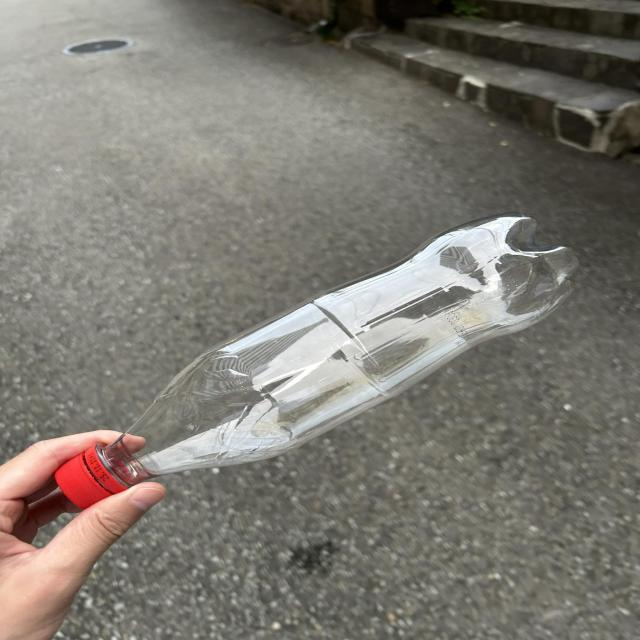empty: (56, 214, 576, 508)
